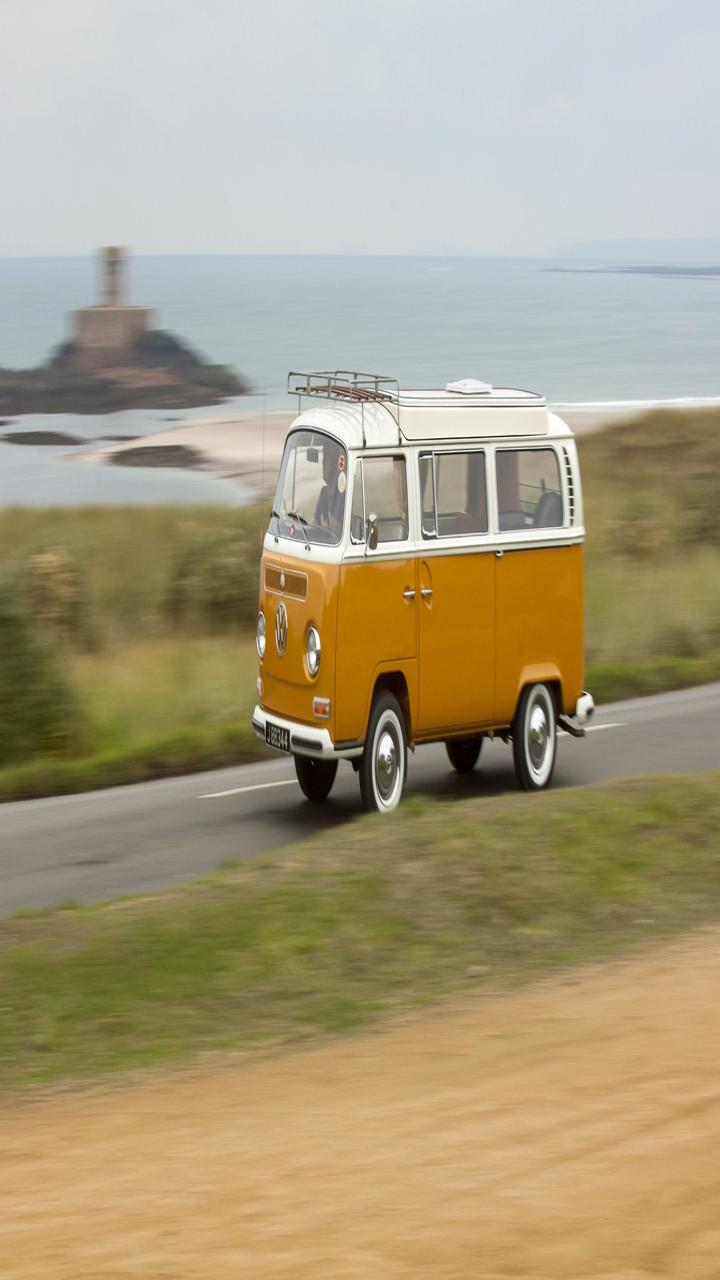vehicle: (216, 371, 608, 803)
